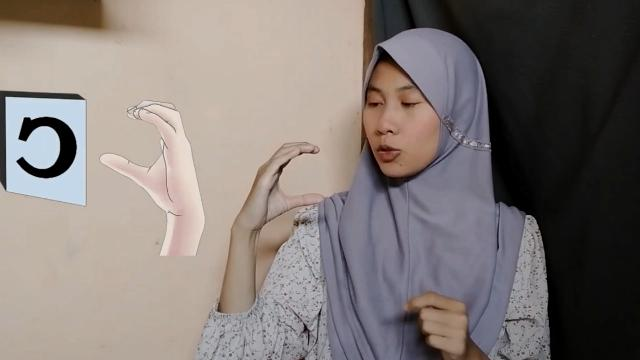C: (230, 139, 324, 236)
